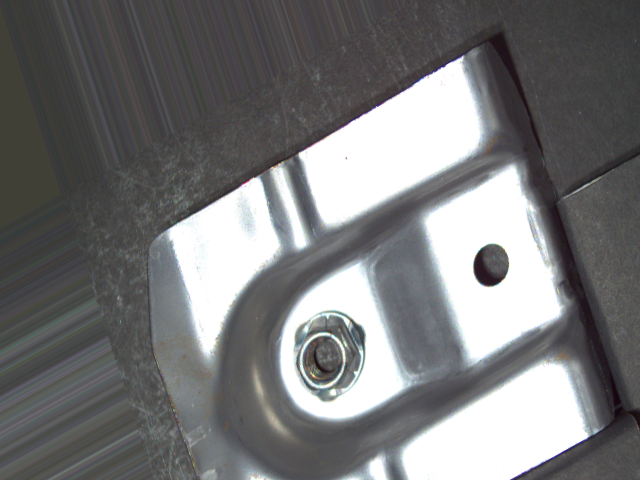good: (289, 307, 370, 406)
